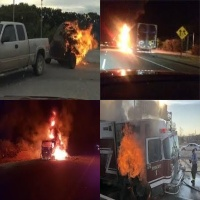fire: (66, 22, 98, 66), (118, 132, 145, 181), (49, 110, 66, 159), (115, 23, 133, 51)
